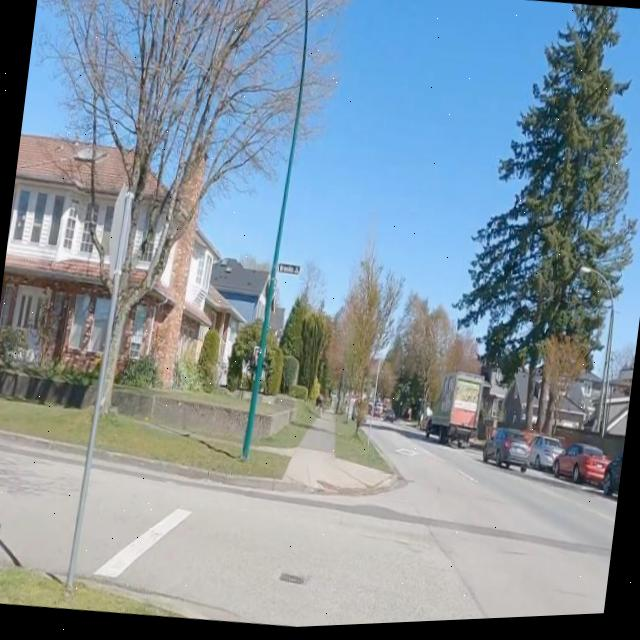Automobile: (426, 376, 481, 450), (554, 449, 608, 490), (483, 431, 529, 476), (530, 439, 562, 477), (602, 456, 623, 501), (384, 414, 393, 425)
Road: (80, 431, 617, 630), (0, 441, 79, 573)
Sidewalk: (283, 451, 391, 496), (298, 418, 335, 455)
